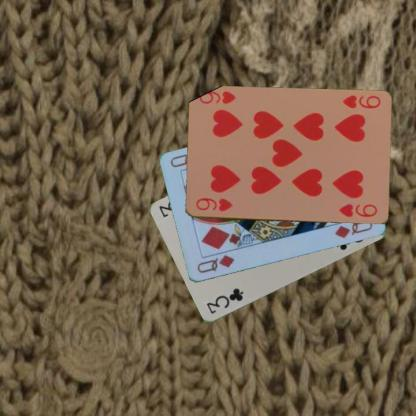3c: (203, 286, 245, 316)
9h: (193, 195, 234, 213), (340, 92, 381, 110)
Qd: (194, 253, 236, 275)
